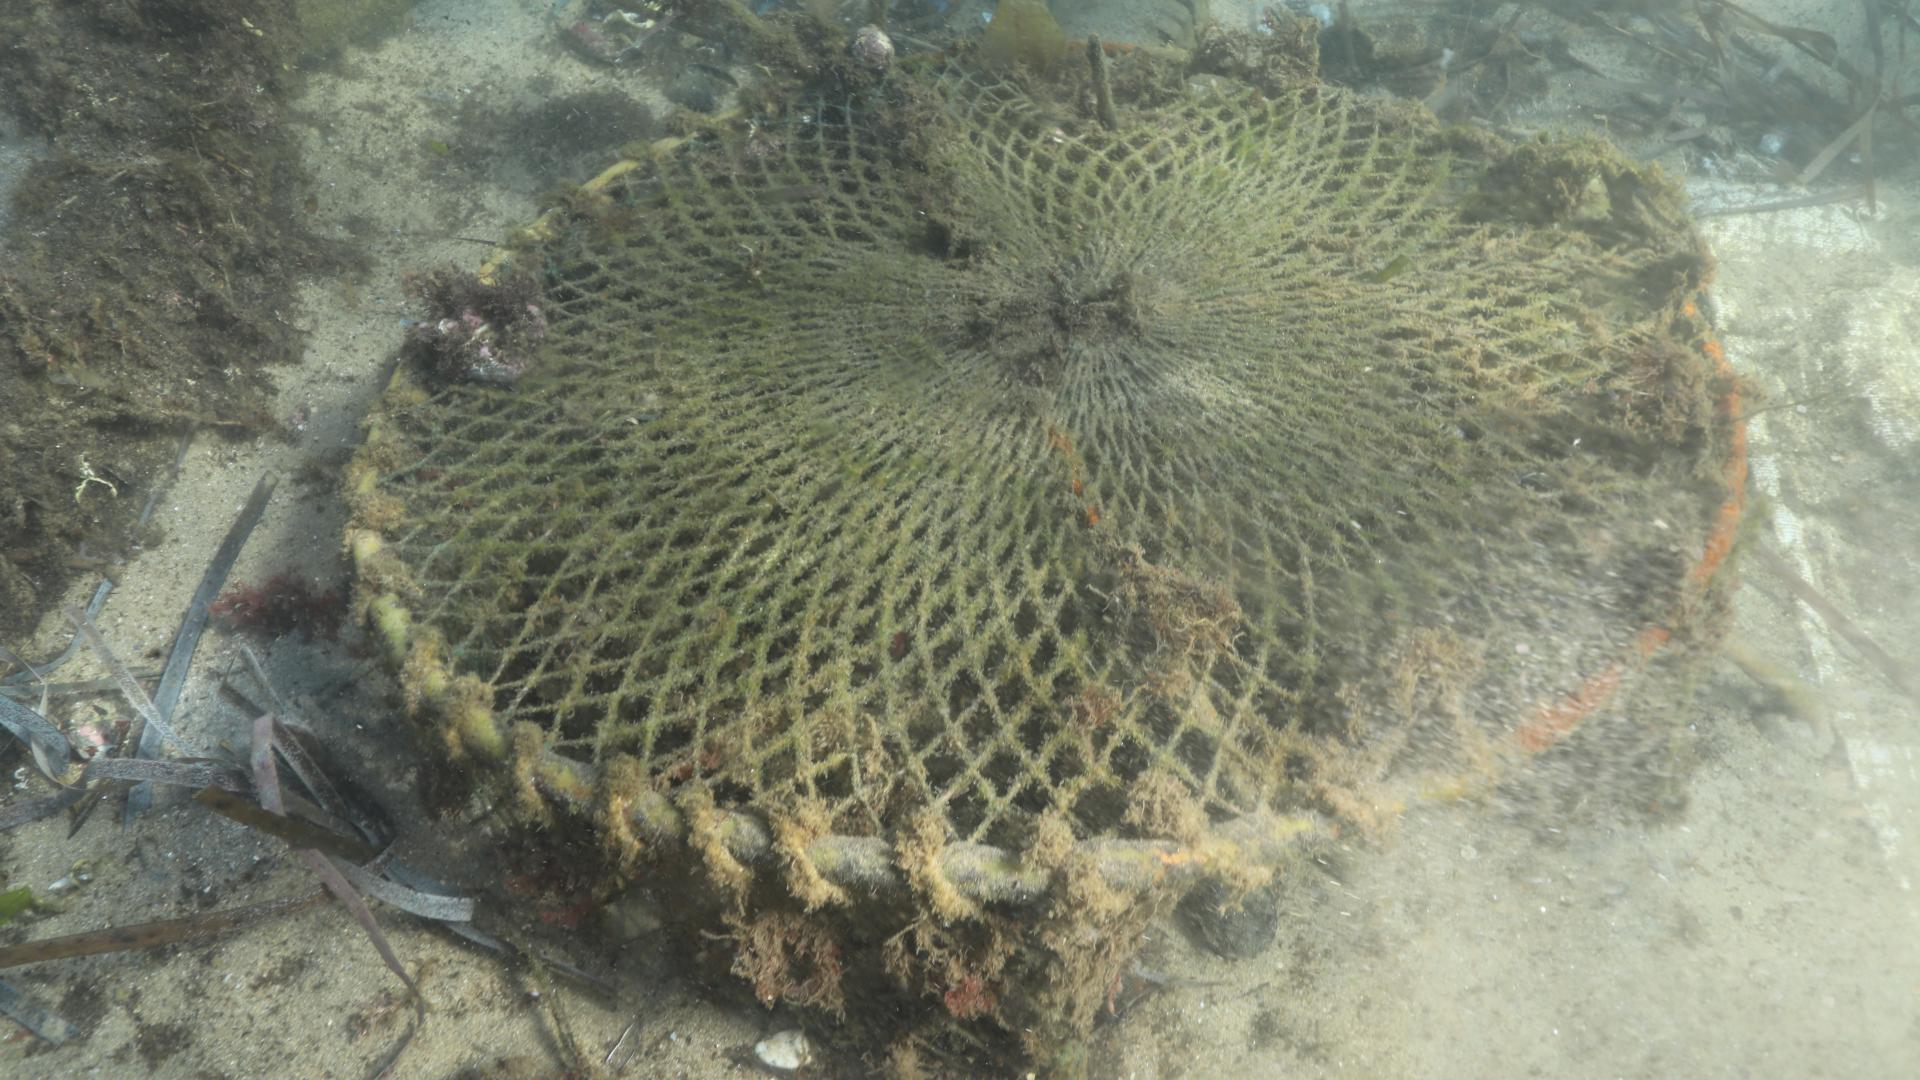circular fish trap: (344, 44, 1750, 1004)
